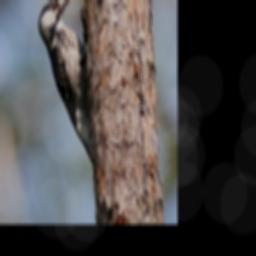Woodpecker: (37, 0, 93, 174)
